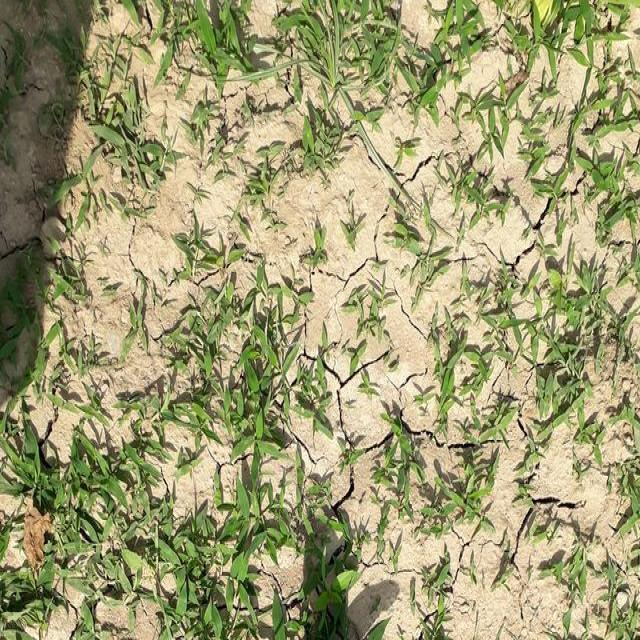weed: (160, 1, 640, 158), (1, 411, 301, 640), (117, 289, 308, 426), (535, 238, 640, 450)
